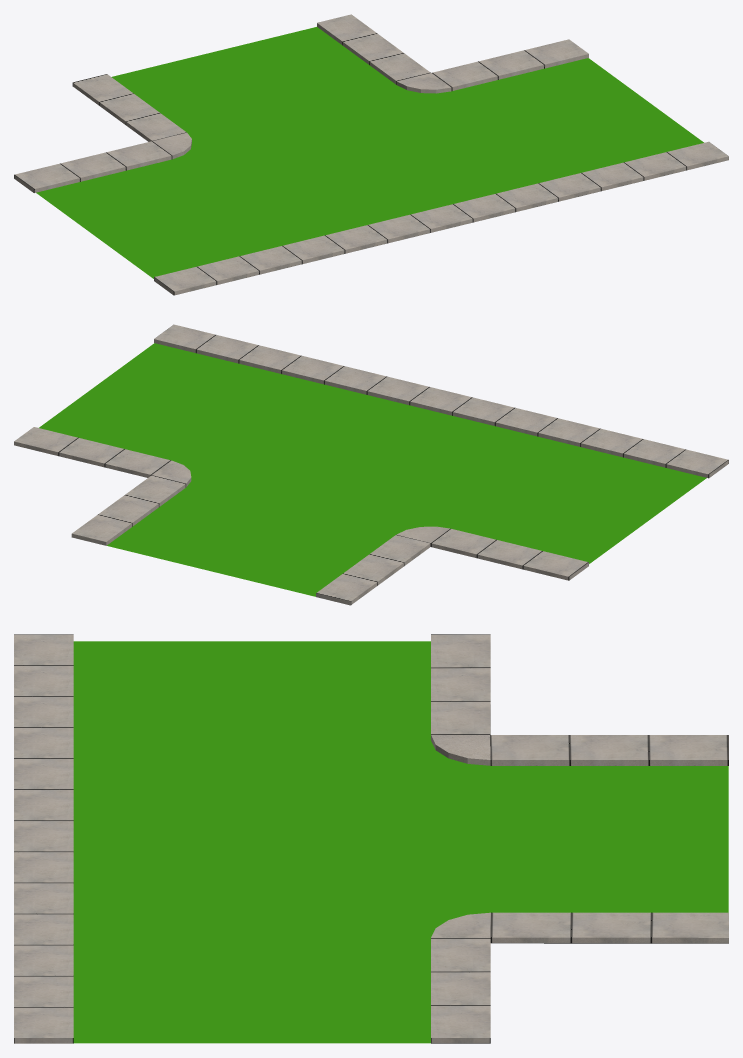
File: Corner_T.obj
3 views of the same model, one above another, from view 1: azimuth 30°, elevation 25°; view 2: azimuth 150°, elevation 25°; view 3: azimuth 270°, elevation 25° (orthographic). The views are drawn at different scales.
Visible parts, largest first — view 1: rua.002_Plane.000, calsada_Plane.000; view 2: rua.002_Plane.000, calsada_Plane.000; view 3: rua.002_Plane.000, calsada_Plane.000.
Part boxes in pixels (x1,y1,x2,y2): rua.002_Plane.000: (36,27,703,278); calsada_Plane.000: (14,14,728,295); rua.002_Plane.000: (39,343,706,596); calsada_Plane.000: (14,324,728,605); rua.002_Plane.000: (73,641,728,1043); calsada_Plane.000: (14,634,728,1043).
Size of the model in its own units: 32.08 by 0.2143 by 24.
